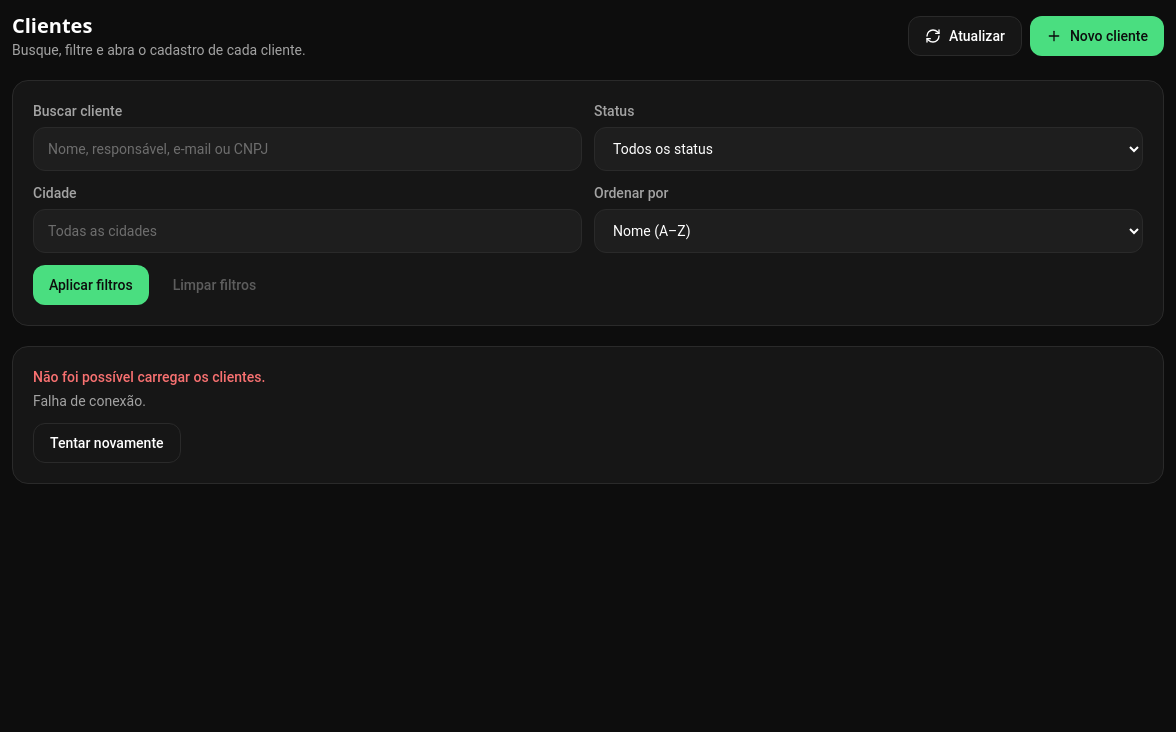
Scenario: ClientsPage › preserva erro e oferece nova tentativa
Expected: the message shows "Falha de conexão.", top-left (33, 393), bottom-right (146, 409)
What coordinates should you click on to do the following:
click the button "Tentar novamente"
I would click on:
 (107, 443)
Its box is top-left (33, 423), bottom-right (181, 463).
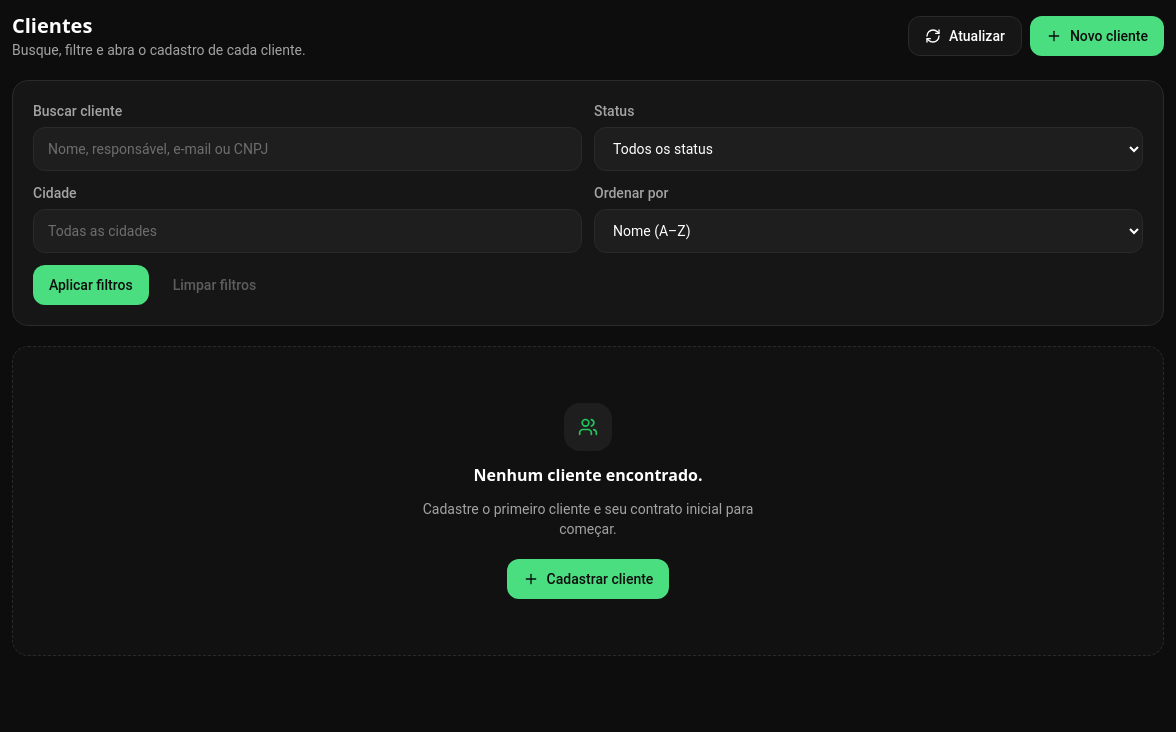
Expected: the heading "Nenhum cliente encontrado." is shown, top-left (473, 463), bottom-right (702, 487)
